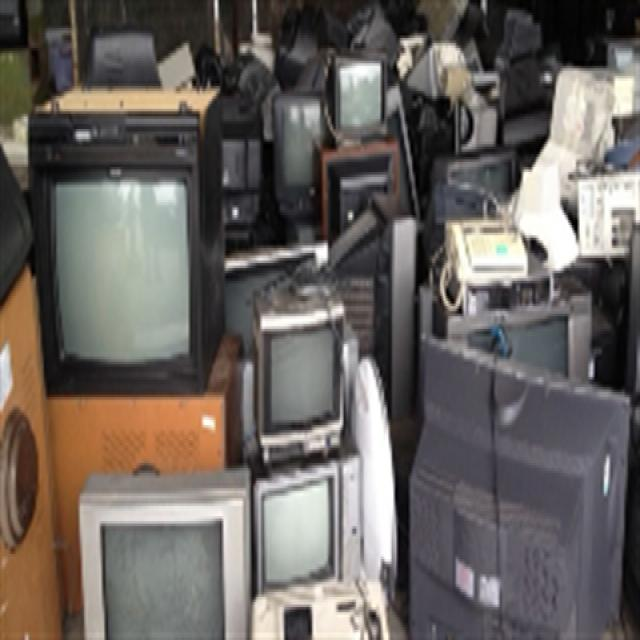heap: (239, 96, 607, 625)
